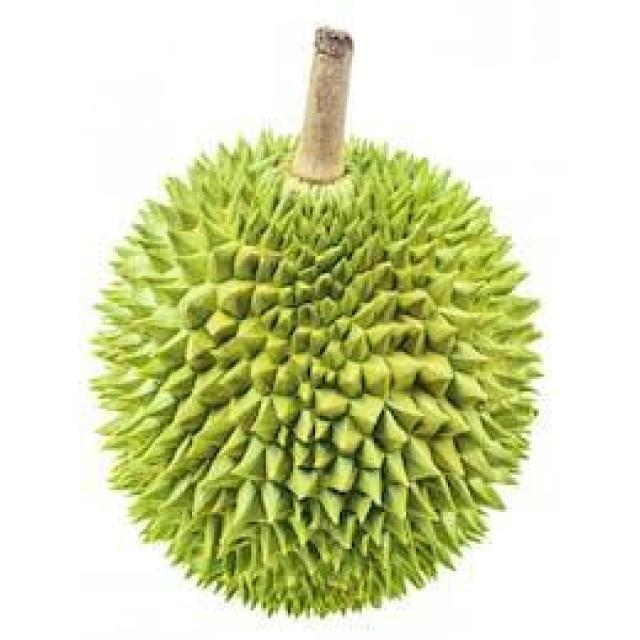immature: (85, 122, 545, 626)
